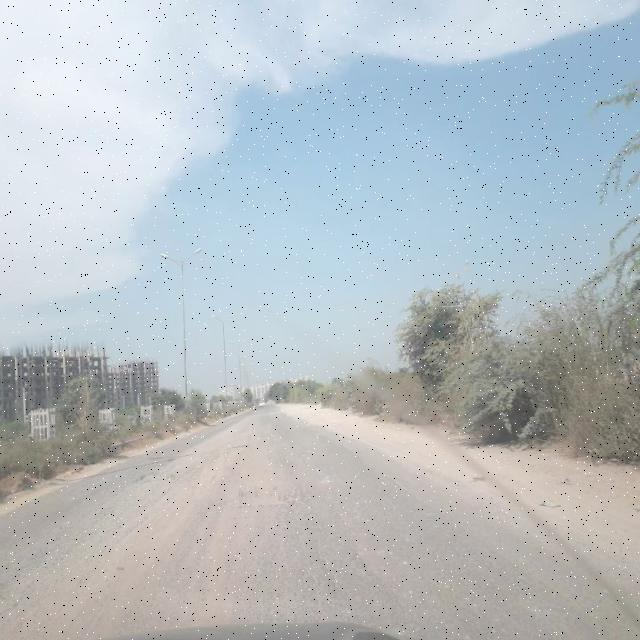D00: (263, 526, 378, 619), (370, 461, 441, 512)
D40: (208, 481, 302, 520), (129, 462, 202, 486)
